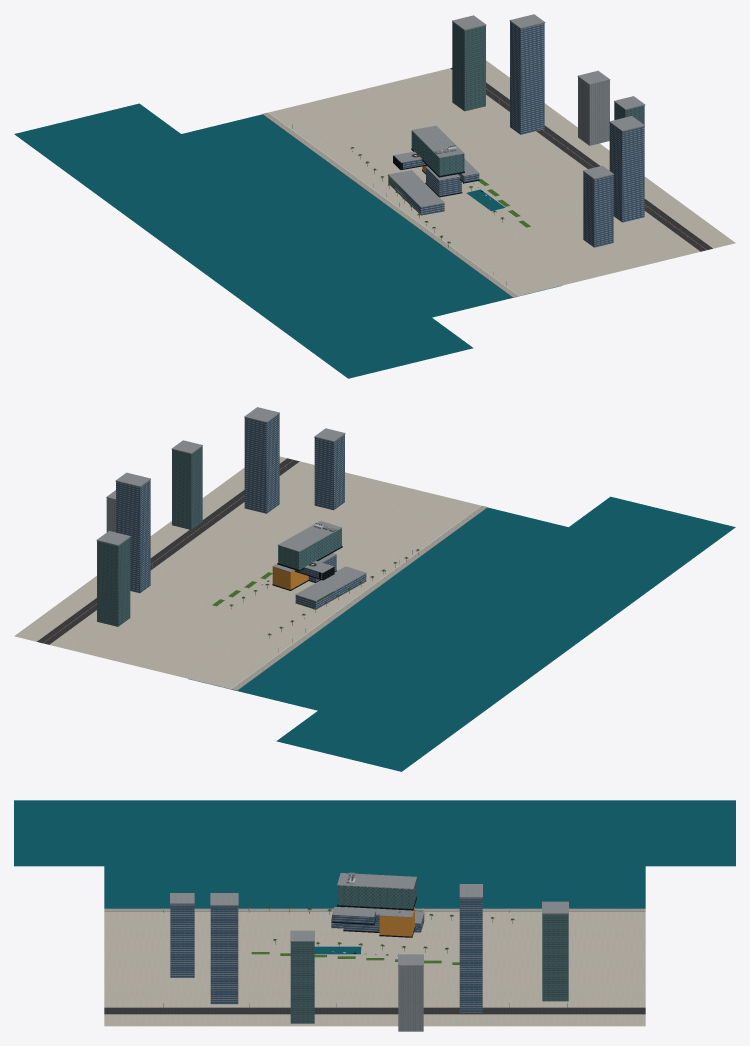
File: cleveland-clinic.glb
The picture shows the model from 3 angles, top to bottom: view 1: azimuth 30°, elevation 25°; view 2: azimuth 150°, elevation 25°; view 3: azimuth 270°, elevation 25°; orthographic projection. The views are drawn at different scales.
Parts seen in each view (by area): view 1: Ground, Context, Tower, Podium; view 2: Ground, Context, Tower, Podium; view 3: Ground, Context, Tower.
Part boxes in pixels (<box>): Ground: <box>181,60,735,317</box>; Context: <box>14,14,645,378</box>; Tower: <box>393,125,479,197</box>; Podium: <box>387,170,444,215</box>; Ground: <box>14,456,568,710</box>; Context: <box>96,407,735,771</box>; Tower: <box>272,521,342,590</box>; Podium: <box>295,566,366,609</box>; Ground: <box>104,866,645,1026</box>; Context: <box>14,800,735,1031</box>; Tower: <box>331,873,416,937</box>.
Size of the model in its own units: 911 by 213 by 1200.
Materials: 31 (17 with a texture image).
